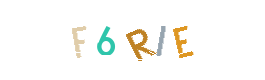6: (66, 0, 146, 80)
E: (116, 0, 196, 80)
F: (66, 0, 146, 80)
I: (111, 0, 191, 80)
R: (92, 0, 172, 80)
